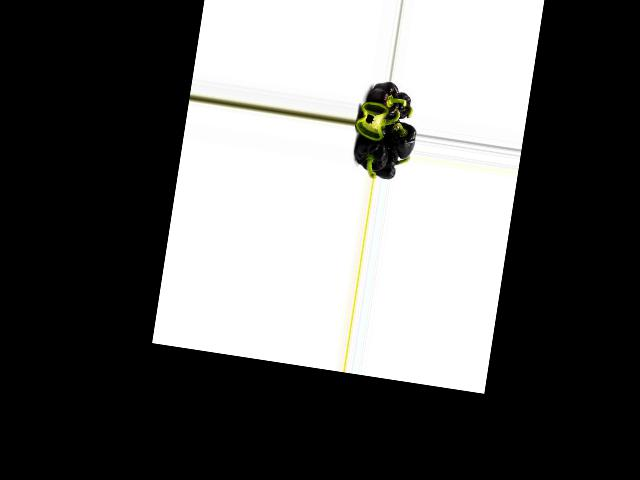bell_pepper: (366, 80, 401, 123)
